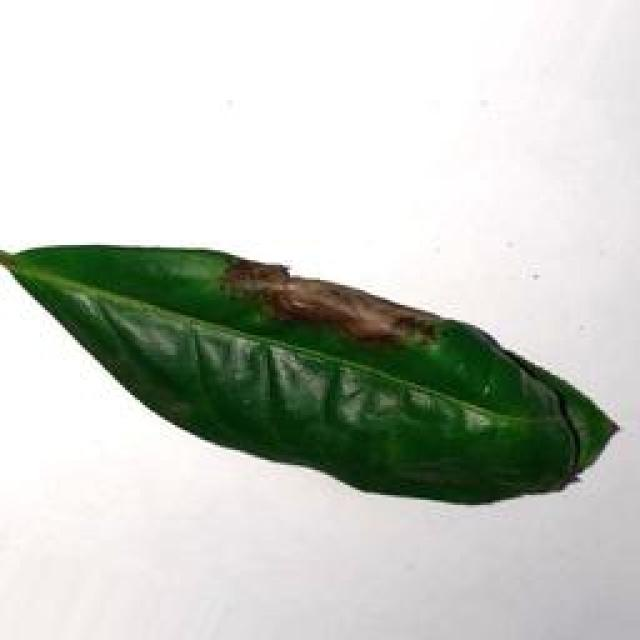Brown Blight: (2, 235, 618, 504)
